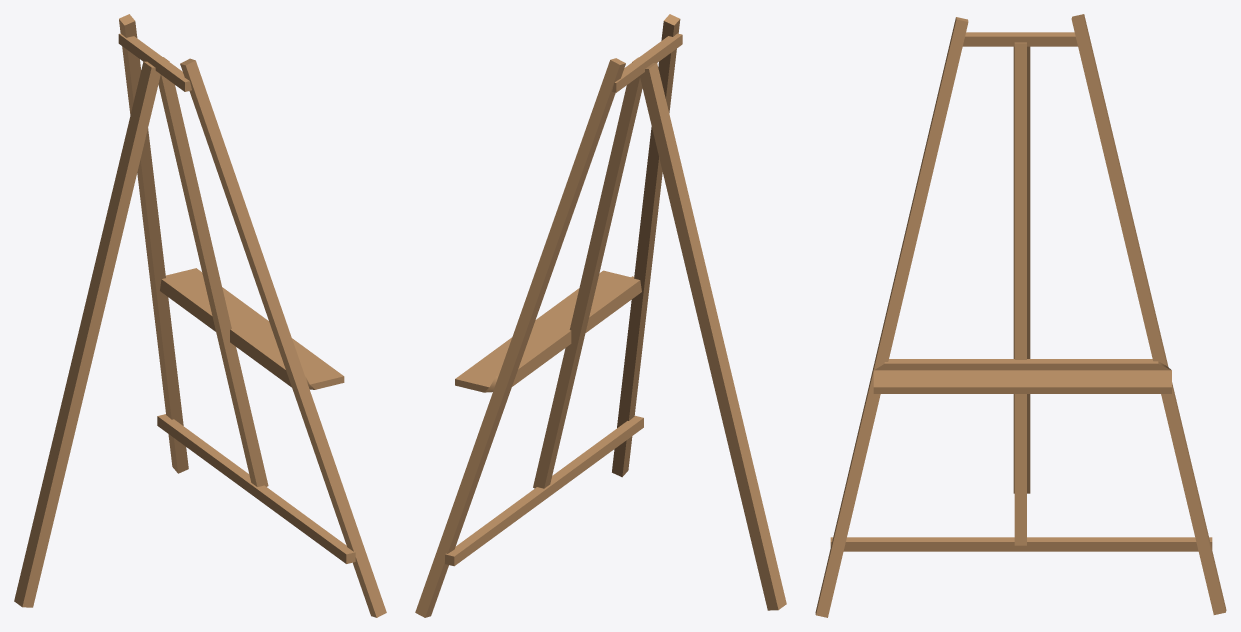
File: painting.fbx
3 views of the same model, side by side, from view 1: azimuth 30°, elevation 25°; view 2: azimuth 150°, elevation 25°; view 3: azimuth 270°, elevation 25° (orthographic).
Parts seen in each view (by area): view 1: cavalete:pCube9; view 2: cavalete:pCube9; view 3: cavalete:pCube9.
Part boxes in pixels (x1,y1,x2,y2): cavalete:pCube9: (14,14,386,617); cavalete:pCube9: (415,14,786,617); cavalete:pCube9: (815,14,1226,617).
Size of the model in its own units: 6.45 by 12.42 by 8.53.
